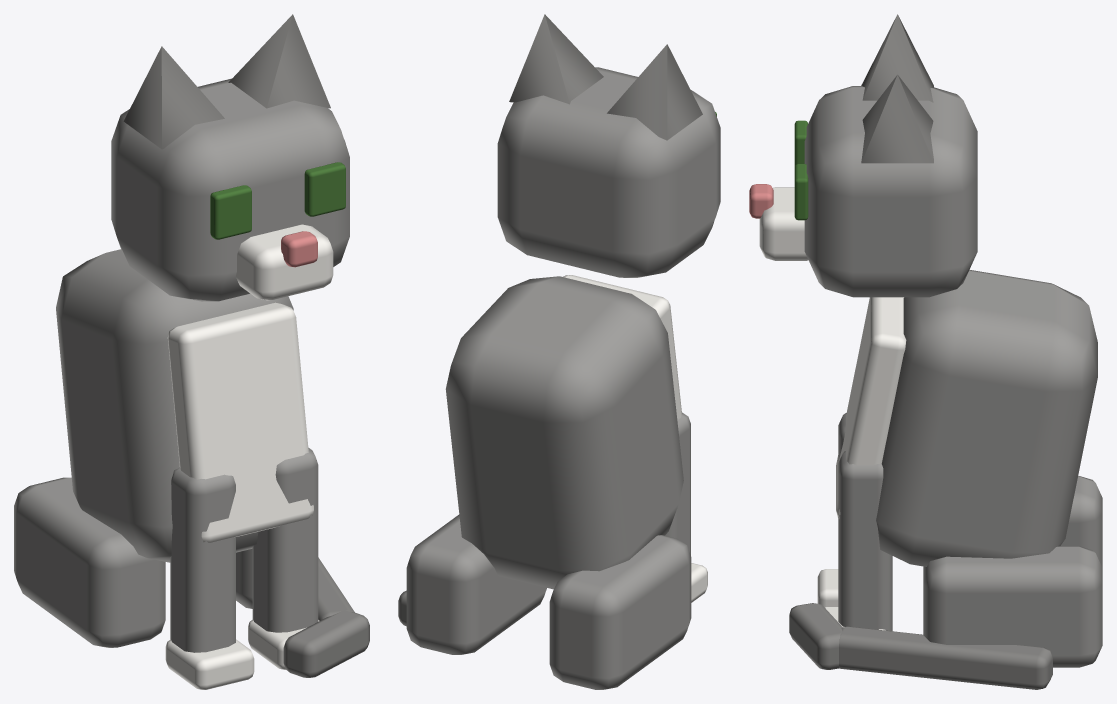
The model's file is base-cat-sitting.glb.
The picture shows the model from 3 angles, left to right: view 1: azimuth 30°, elevation 25°; view 2: azimuth 150°, elevation 25°; view 3: azimuth 270°, elevation 25°; orthographic projection. The views are drawn at different scales.
Visible parts, largest first — view 1: PM_FUR_MAIN_0_150_22, PM_FUR_MAIN_0_70_-6, PM_FUR_SECONDARY_0_76_28, PM_FUR_MAIN_-26_19_-16, PM_FUR_MAIN_-14_34_30, PM_FUR_MAIN_14_34_30, PM_EARS_peak_l, PM_EARS_peak_r, PM_FUR_SECONDARY_0_139_53, PM_TAIL_20_6_44, PM_FUR_SECONDARY_-14_5_34, PM_EYES_-16_157_50 (+5 smaller); view 2: PM_FUR_MAIN_0_70_-6, PM_FUR_MAIN_0_150_22, PM_FUR_MAIN_-26_19_-16, PM_FUR_MAIN_26_19_-16, PM_EARS_peak_l, PM_EARS_peak_r, PM_FUR_MAIN_-14_34_30, PM_FUR_SECONDARY_0_76_28, PM_FUR_SECONDARY_-14_5_34; view 3: PM_FUR_MAIN_0_70_-6, PM_FUR_MAIN_0_150_22, PM_FUR_MAIN_26_19_-16, PM_TAIL_36_6_6, PM_FUR_MAIN_14_34_30, PM_FUR_SECONDARY_0_76_28, PM_EARS_peak_r, PM_EARS_peak_l, PM_FUR_SECONDARY_0_139_53, PM_TAIL_20_6_44, PM_FUR_MAIN_-26_19_-16, PM_EYES_16_157_50 (+2 smaller).
Boxes of the visible parts, <box> form: PM_FUR_MAIN_0_150_22: <box>111,78,349,301</box>; PM_FUR_MAIN_0_70_-6: <box>56,249,293,562</box>; PM_FUR_SECONDARY_0_76_28: <box>167,302,313,542</box>; PM_FUR_MAIN_-26_19_-16: <box>14,477,165,647</box>; PM_FUR_MAIN_-14_34_30: <box>170,467,235,652</box>; PM_FUR_MAIN_14_34_30: <box>252,447,318,632</box>; PM_EARS_peak_l: <box>123,46,224,149</box>; PM_EARS_peak_r: <box>228,14,330,108</box>; PM_FUR_SECONDARY_0_139_53: <box>236,224,333,300</box>; PM_TAIL_20_6_44: <box>283,610,369,677</box>; PM_FUR_SECONDARY_-14_5_34: <box>165,639,254,689</box>; PM_EYES_-16_157_50: <box>210,185,251,239</box>; PM_FUR_MAIN_0_70_-6: <box>445,276,683,589</box>; PM_FUR_MAIN_0_150_22: <box>497,67,720,277</box>; PM_FUR_MAIN_-26_19_-16: <box>549,535,691,689</box>; PM_FUR_MAIN_26_19_-16: <box>406,514,546,654</box>; PM_EARS_peak_l: <box>607,44,702,140</box>; PM_EARS_peak_r: <box>509,14,603,104</box>; PM_FUR_MAIN_-14_34_30: <box>665,412,690,555</box>; PM_FUR_SECONDARY_0_76_28: <box>563,275,681,419</box>; PM_FUR_SECONDARY_-14_5_34: <box>691,563,707,602</box>; PM_FUR_MAIN_0_70_-6: <box>876,269,1097,566</box>; PM_FUR_MAIN_0_150_22: <box>804,86,977,297</box>; PM_FUR_MAIN_26_19_-16: <box>923,546,1102,667</box>; PM_TAIL_36_6_6: <box>839,626,1052,689</box>; PM_FUR_MAIN_14_34_30: <box>838,451,892,631</box>; PM_FUR_SECONDARY_0_76_28: <box>836,297,906,518</box>; PM_EARS_peak_r: <box>861,74,933,163</box>; PM_EARS_peak_l: <box>861,14,933,102</box>; PM_FUR_SECONDARY_0_139_53: <box>759,187,808,260</box>; PM_TAIL_20_6_44: <box>789,603,842,669</box>; PM_FUR_MAIN_-26_19_-16: <box>923,476,1102,567</box>; PM_EYES_16_157_50: <box>794,164,808,220</box>.
Size of the model in its own units: 0.0886 by 0.2008 by 0.1103.
